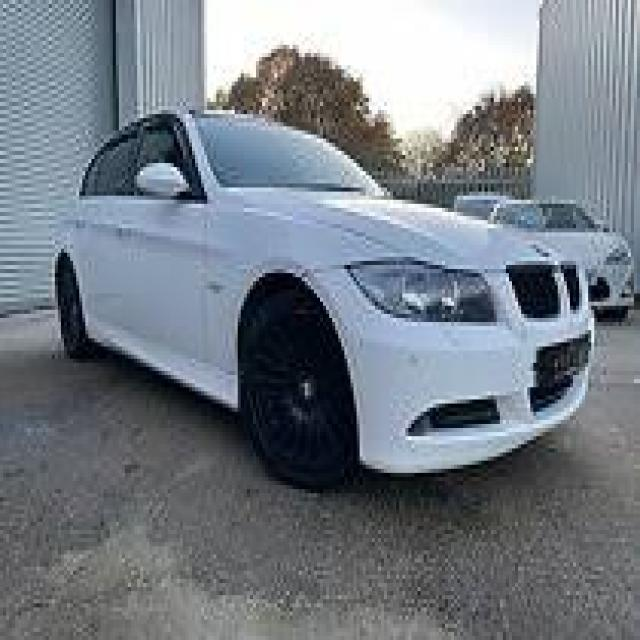minor: (501, 310, 527, 337)
